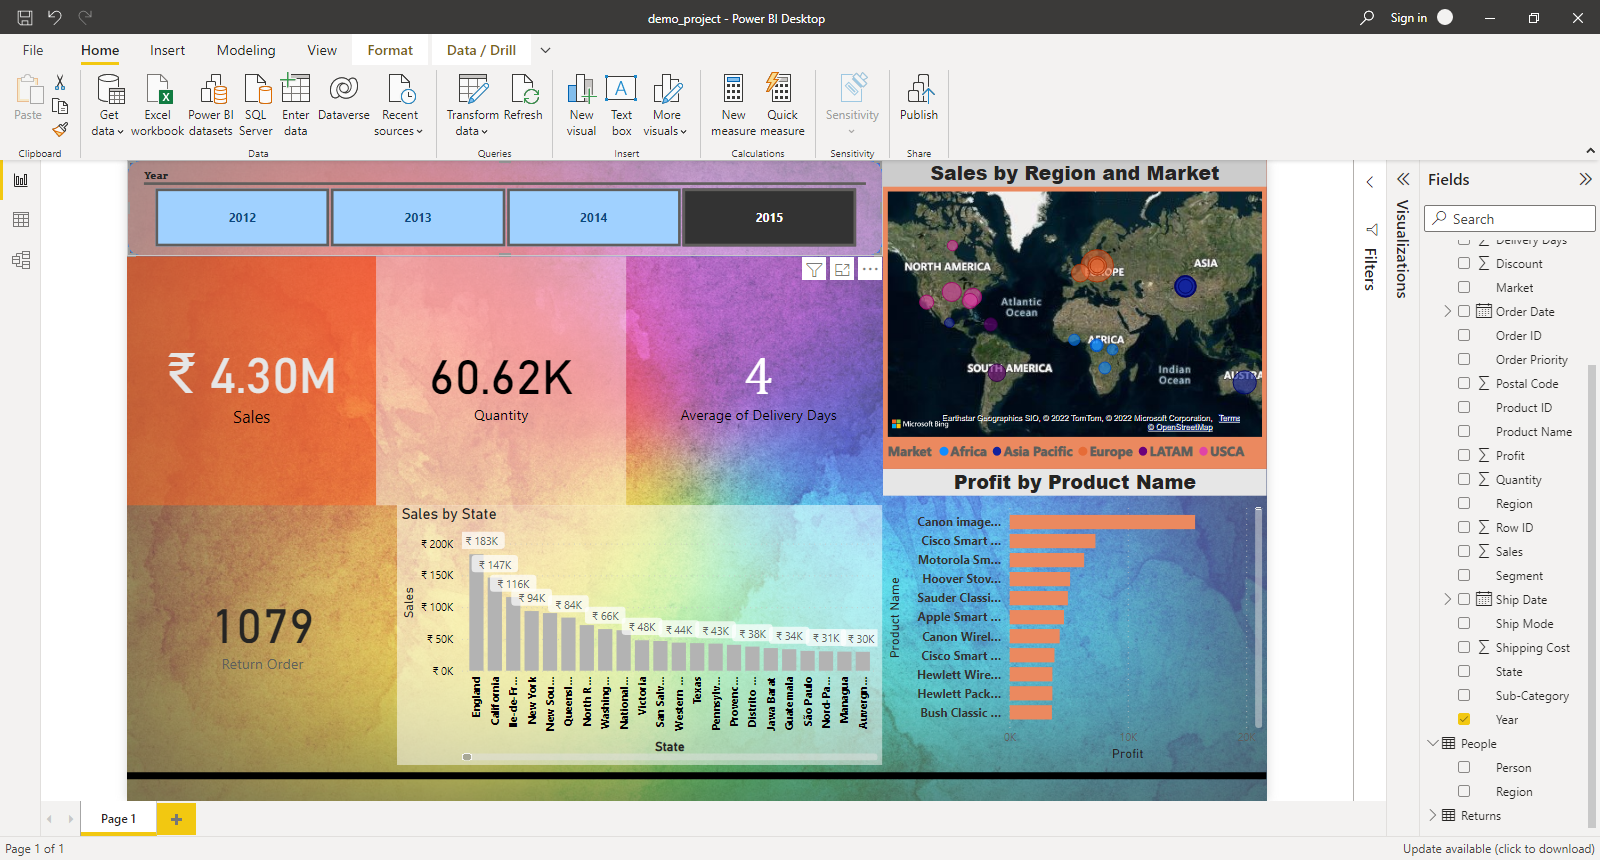

This screenshot's page, from the dashboard's own definition file:
{"tool":"powerbi","page":{"name":"Page 1","canvas":[1280,720],"ordinal":0},"visuals":[{"type":"card","fields":{"Values":["Avg(Orders.Delivery Days)"]},"box":[569.5,108,279.6,279.6],"z":0},{"type":"card","fields":{"Values":["Sum(Orders.Sales)"]},"box":[0,108,279.6,279.6],"z":1000},{"type":"card","fields":{"Values":["Sum(Orders.Quantity)"]},"box":[279.6,108,280.9,279.6],"z":2000},{"type":"shape","box":[0,680,1280,24.2],"z":3000},{"type":"slicer","fields":{"Values":["Orders.Year"]},"box":[0,0,849.1,108],"z":4000},{"type":"card","fields":{"Values":["Sum(Returns.Return Order)"]},"box":[0,387.7,303.8,279.6],"z":5000},{"type":"map","fields":{"Category":["Orders.Region"],"Size":["Sum(Orders.Sales)"],"Series":["Orders.Market"]},"box":[849.1,0,430.9,346.8],"z":6000},{"type":"barChart","fields":{"Category":["Orders.Product Name"],"Y":["Sum(Orders.Profit)"]},"box":[849.1,346.8,430.9,332.7],"z":7000},{"type":"lineClusteredColumnComboChart","fields":{"Category":["Orders.State"],"Y":["Sum(Orders.Sales)"]},"box":[303.8,387.7,545.3,292.4],"z":7001}]}

Visuals, with their boxes on the page's 1280x720 design canvas (x1, y1, x2, y2). These are canvas units, not pixel positions in the 1600x860 screenshot, which may show the page scaled, cropped or inside an application window:
card - Avg(Orders.Delivery Days): <bbox>570, 108, 849, 388</bbox>
card - Sum(Orders.Sales): <bbox>0, 108, 280, 388</bbox>
card - Sum(Orders.Quantity): <bbox>280, 108, 560, 388</bbox>
shape: <bbox>0, 680, 1280, 704</bbox>
slicer - Orders.Year: <bbox>0, 0, 849, 108</bbox>
card - Sum(Returns.Return Order): <bbox>0, 388, 304, 667</bbox>
map - Orders.Region x Sum(Orders.Sales): <bbox>849, 0, 1280, 347</bbox>
barChart - Orders.Product Name x Sum(Orders.Profit): <bbox>849, 347, 1280, 680</bbox>
lineClusteredColumnComboChart - Orders.State x Sum(Orders.Sales): <bbox>304, 388, 849, 680</bbox>
